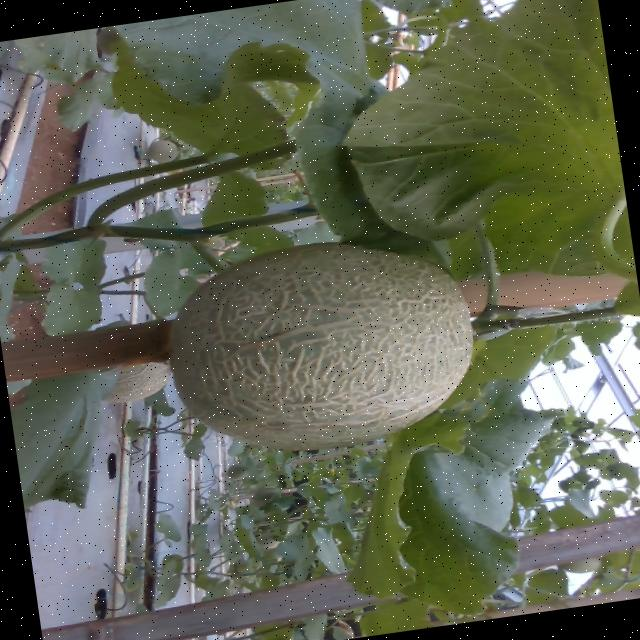melon: (170, 244, 473, 451)
